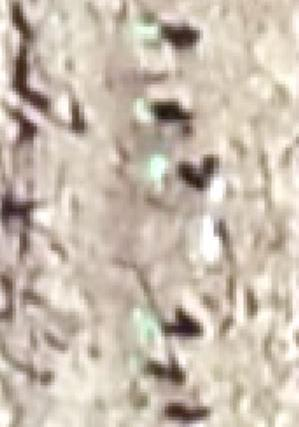cotton: (134, 23, 157, 45), (136, 99, 154, 122), (142, 314, 158, 338), (152, 154, 167, 177)
